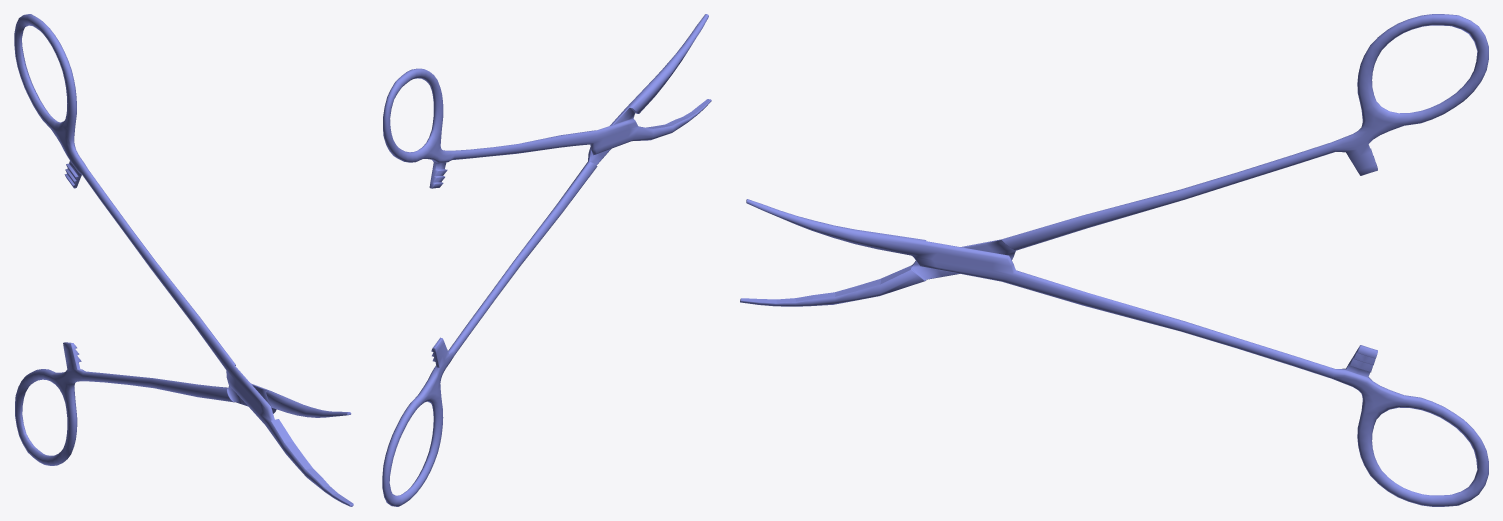
File: scissors-colors.glb
3 views of the same model, side by side, from view 1: azimuth 30°, elevation 25°; view 2: azimuth 150°, elevation 25°; view 3: azimuth 270°, elevation 25° (orthographic). The views are drawn at different scales.
Parts seen in each view (by area): view 1: Plane.003; view 2: Plane.003; view 3: Plane.003.
Part boxes in pixels (bbox=[...]): Plane.003: bbox=[14, 14, 353, 506]; Plane.003: bbox=[382, 14, 711, 506]; Plane.003: bbox=[740, 14, 1488, 506].
Bounding box in the file's own units: 0.0846 × 3.42 × 4.72.
